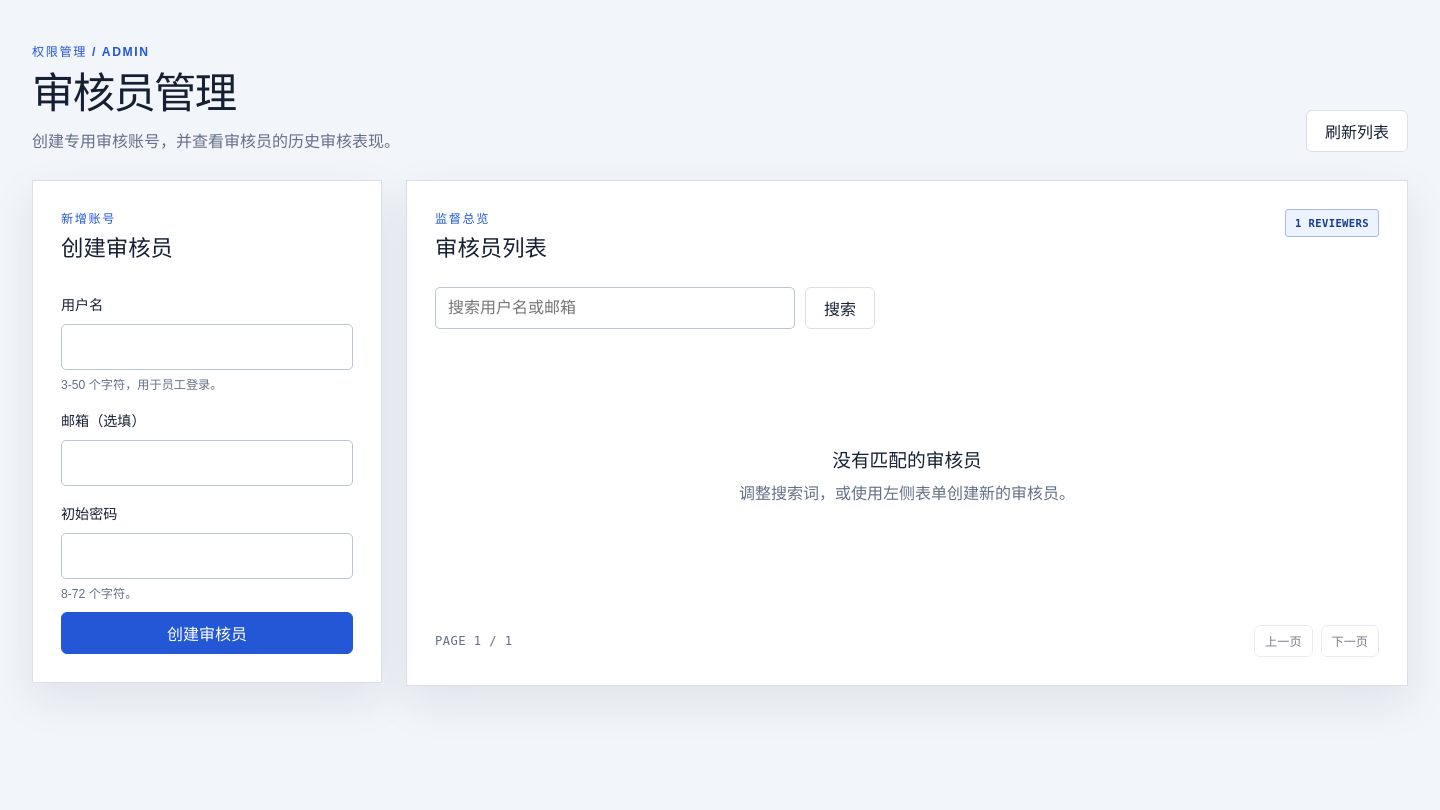
Test: admin reviewer supervision › creates once, clears the form, and adds the returned reviewer summary
Type "reviewer-nine" into the field with id "reviewer-username" at (207, 347), box [61,324,353,370]
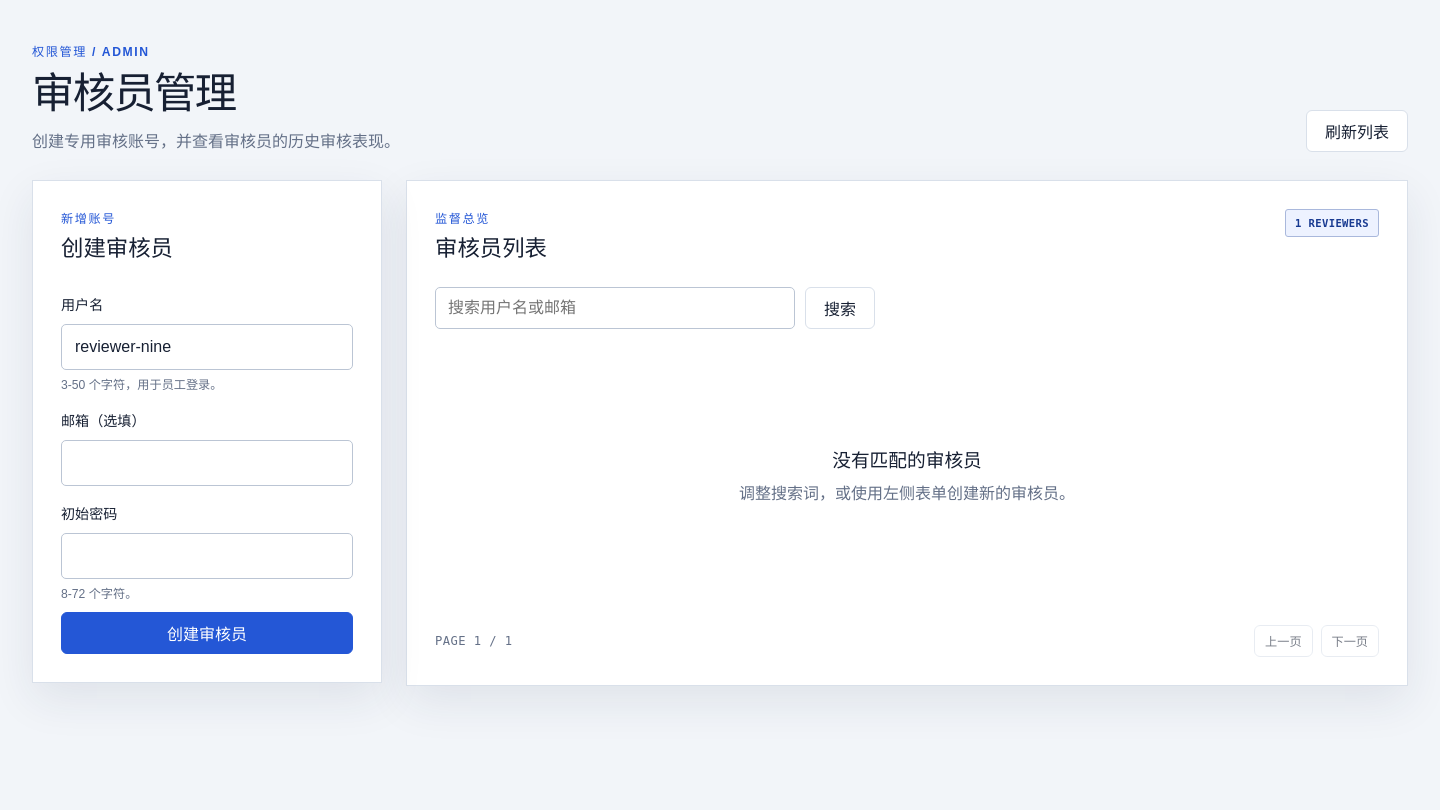
Type "password123" into the password field with id "reviewer-password" at (207, 556), box [61,533,353,579]
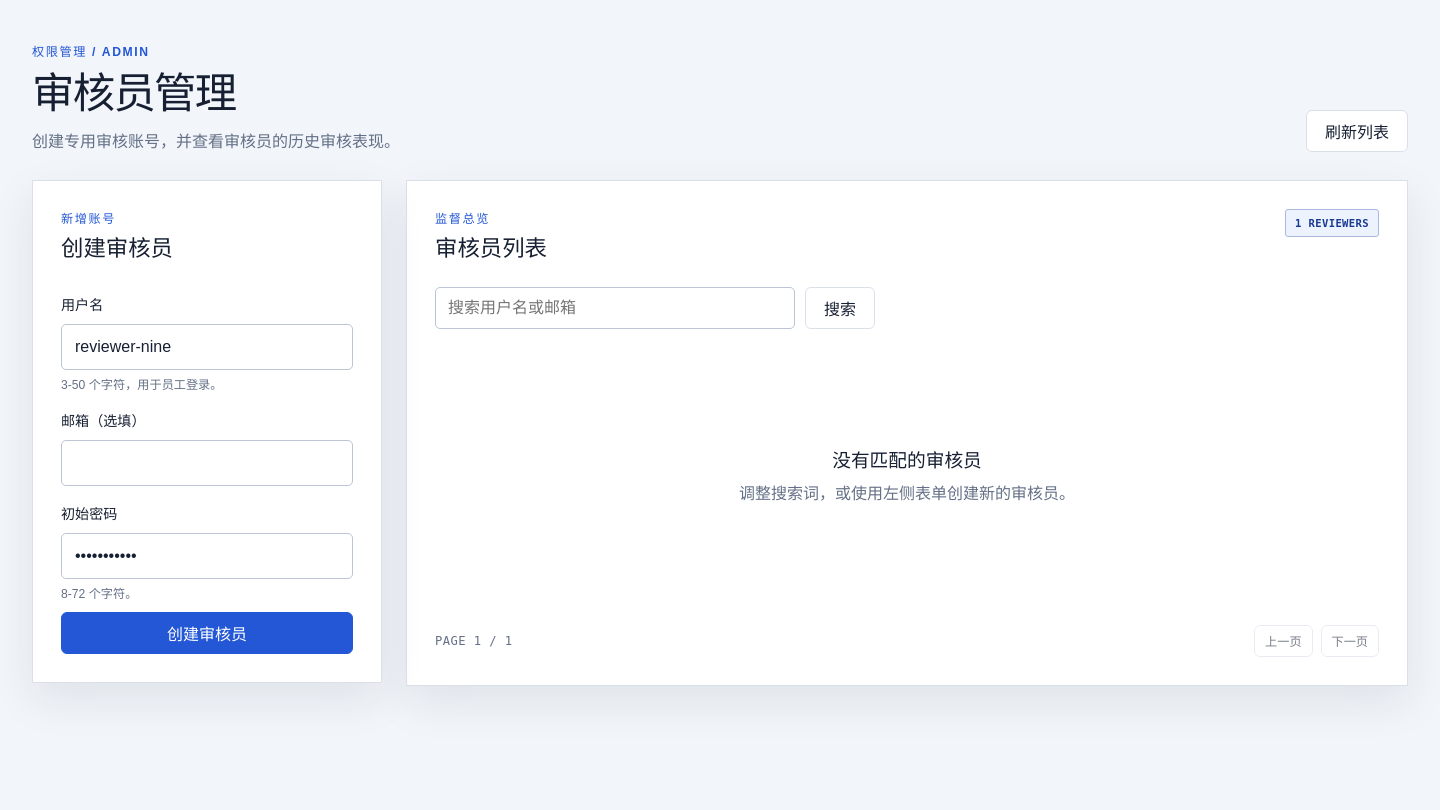
Submit the form "用户名 3-50 个字符，用于员工登录。 邮箱（选填） 初始密码 8-72 个字符。 创建审核员", box [61,287,353,654]
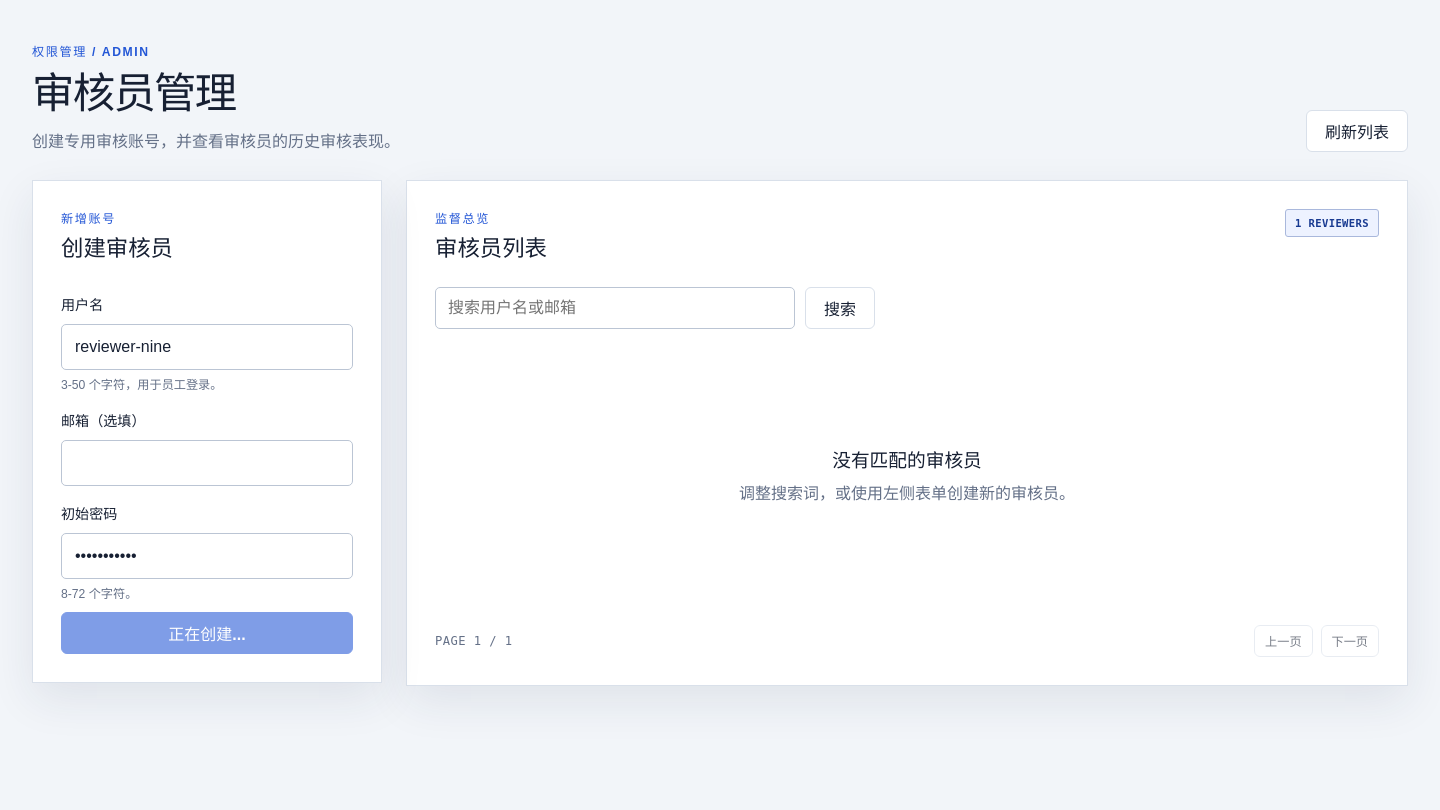
Submit the form "用户名 3-50 个字符，用于员工登录。 邮箱（选填） 初始密码 8-72 个字符。 正在创建...", box [61,287,353,654]
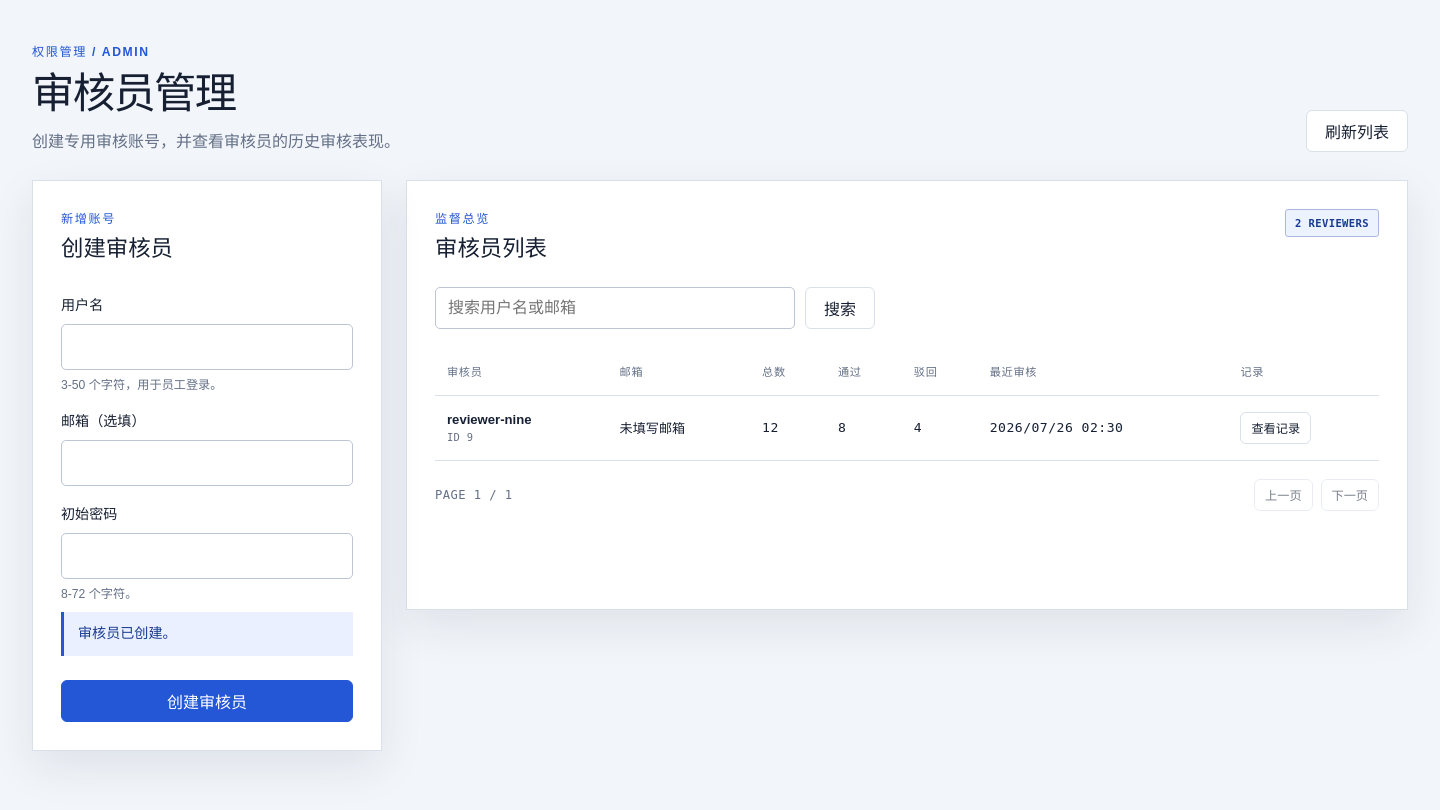
Now the text "审核员已创建" is shown, box [78,625,177,641]
Now the text "reviewer-nine" is shown, box [447,412,532,427]
Now the field with id "reviewer-username" is empty, box [61,324,353,370]
